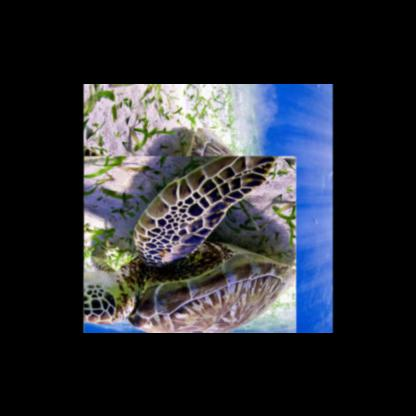turtle: (83, 140, 281, 332)
